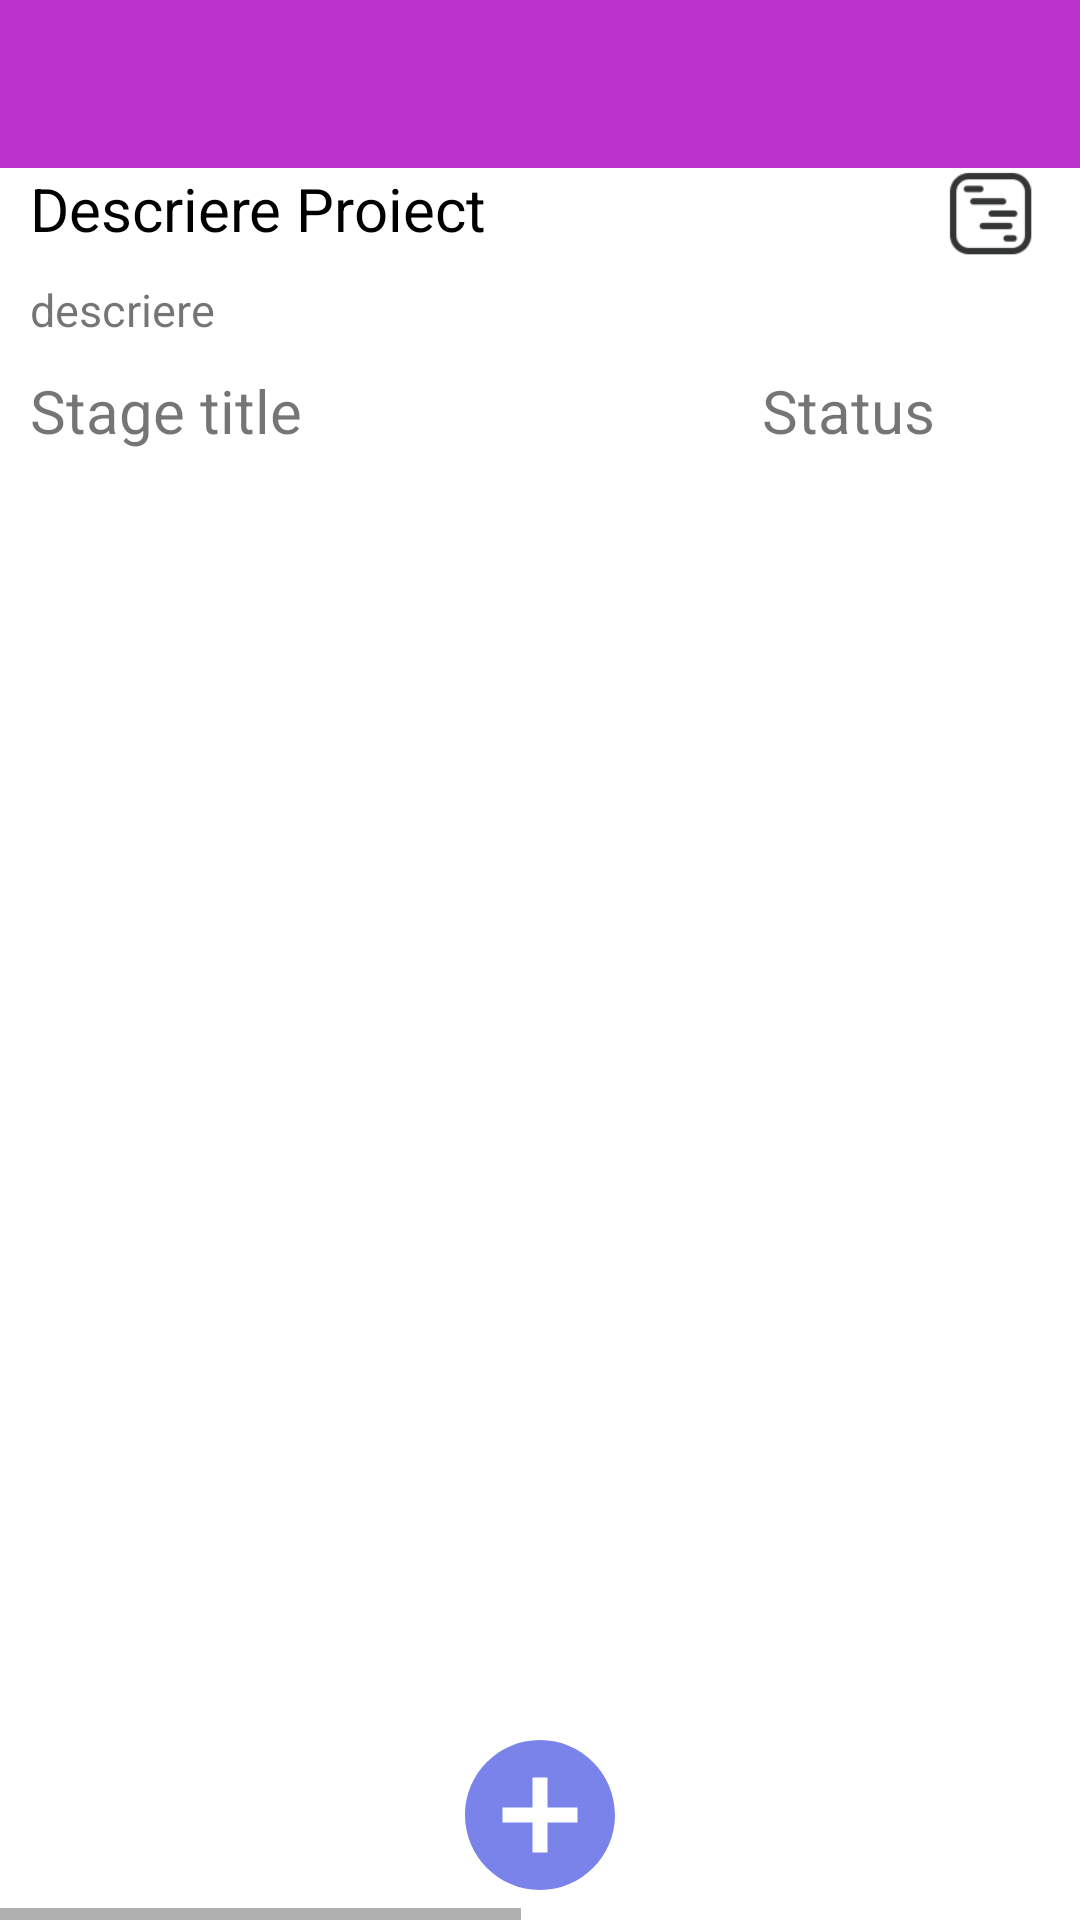

Locate icon controls on the screen. Image size 1080w x 1920h, boxes as (x1, y1, x2, y2).
addbtn: (465, 1740, 615, 1890)
gantt: (950, 173, 1032, 255)
